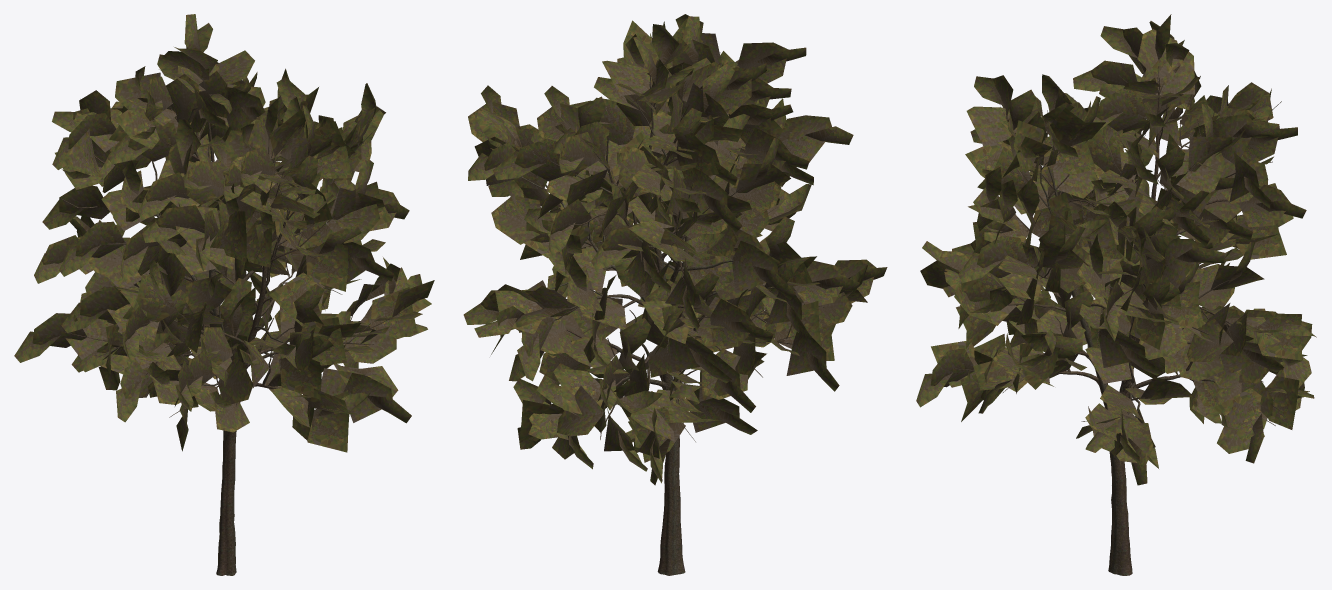
The model's file is SM_Alder_Spring_01b.fbx.
3 views of the same model, side by side, from view 1: azimuth 30°, elevation 25°; view 2: azimuth 150°, elevation 25°; view 3: azimuth 270°, elevation 25° (orthographic). The views are drawn at different scales.
Parts seen in each view (by area): view 1: SM_Alder_Spring_01b_LOD0; view 2: SM_Alder_Spring_01b_LOD0; view 3: SM_Alder_Spring_01b_LOD0.
Part boxes in pixels (x1=…): SM_Alder_Spring_01b_LOD0: x1=14, y1=14, x2=434, y2=575; SM_Alder_Spring_01b_LOD0: x1=463, y1=14, x2=887, y2=575; SM_Alder_Spring_01b_LOD0: x1=916, y1=14, x2=1316, y2=575.
Bounding box in the file's own units: 1656 × 1514 × 2283.
